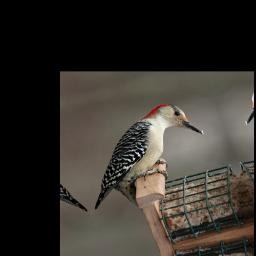Woodpecker: (69, 96, 220, 217)
